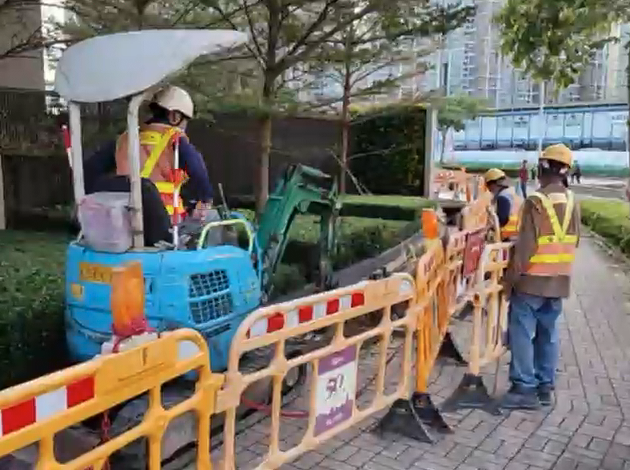Hard Hat: (153, 84, 194, 135), (535, 145, 573, 186), (483, 167, 507, 195)
Person: (518, 144, 580, 407)
Vest: (115, 103, 190, 232), (525, 164, 579, 278), (491, 181, 521, 237)
